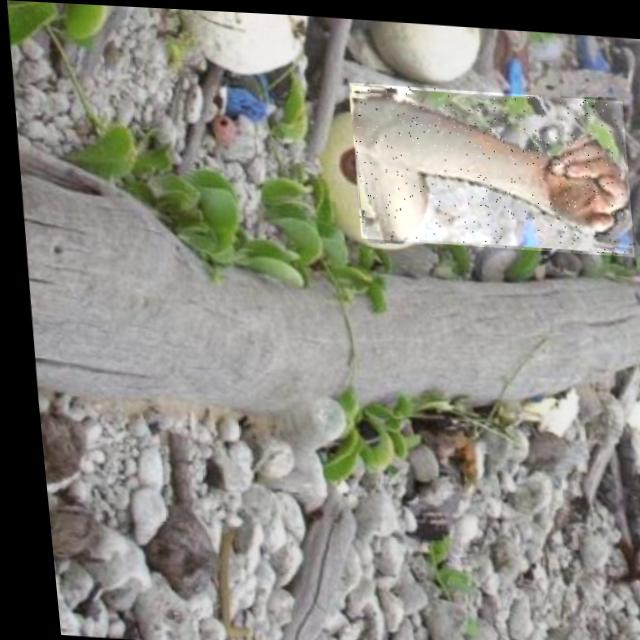Person in Rubble: (343, 78, 632, 250)
